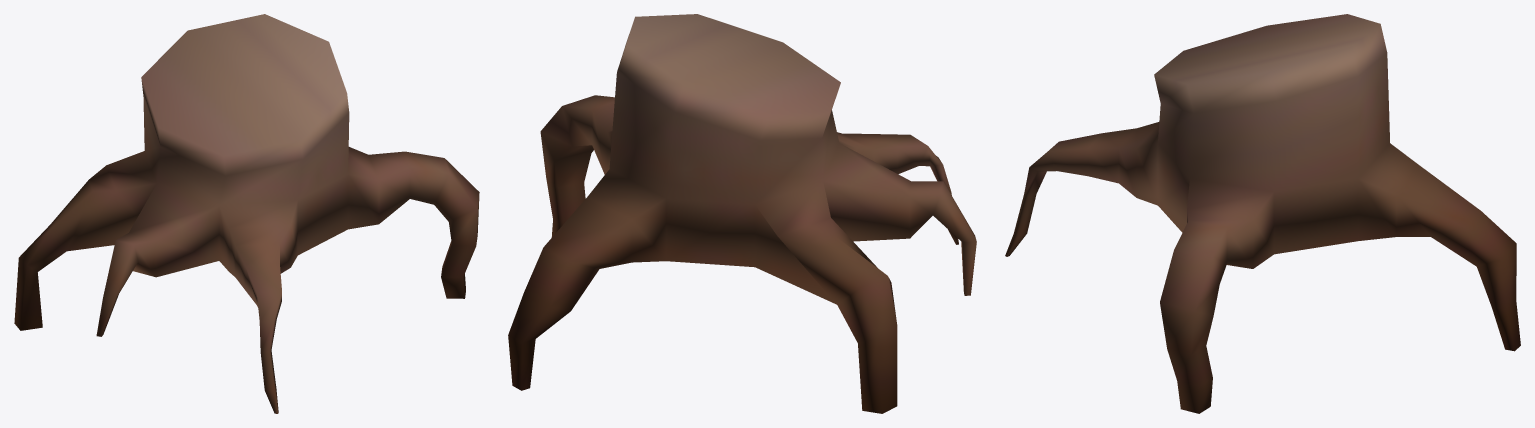
The model's file is M_Root_Stump03.fbx.
3 renders of one model, left to right at view 1: azimuth 30°, elevation 25°; view 2: azimuth 150°, elevation 25°; view 3: azimuth 270°, elevation 25°, orthographic. The views are drawn at different scales.
Parts seen in each view (by area): view 1: M_Root_Stump03; view 2: M_Root_Stump03; view 3: M_Root_Stump03.
Boxes of the visible parts, box(x1,y1,x2,y2) form: M_Root_Stump03: box(14, 14, 479, 413); M_Root_Stump03: box(508, 14, 976, 413); M_Root_Stump03: box(1005, 14, 1520, 413).
Size of the model in its own units: 183 by 118 by 187.
Materials: 1 (1 with a texture image).
